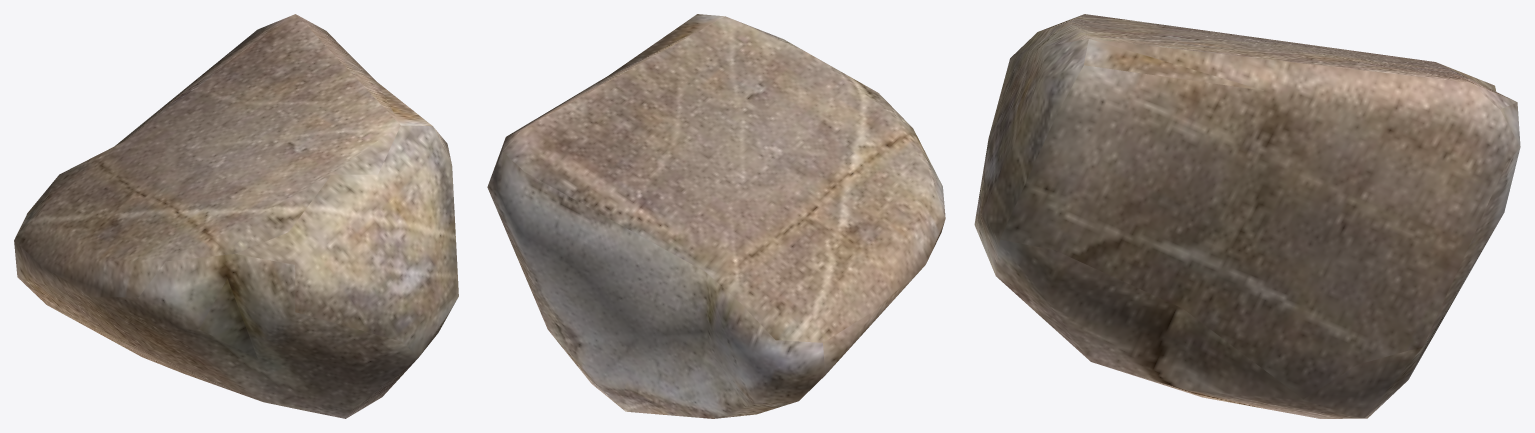
The picture shows the model from 3 angles, left to right: view 1: azimuth 30°, elevation 25°; view 2: azimuth 150°, elevation 25°; view 3: azimuth 270°, elevation 25°; orthographic projection. The views are drawn at different scales.
Visible parts, largest first — view 1: rock040_lod4; view 2: rock040_lod4; view 3: rock040_lod4.
Part boxes in pixels (box(x1,y1,x2,y2)): rock040_lod4: box(14, 14, 458, 418); rock040_lod4: box(487, 14, 945, 418); rock040_lod4: box(974, 14, 1520, 418).
Bounding box in the file's own units: 0.8586 × 0.7887 × 1.
1 material, 1 textured.
